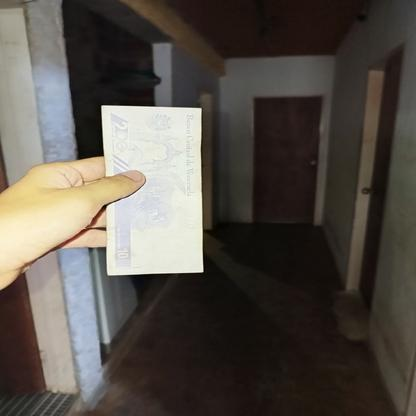ten-back-vef: (100, 106, 204, 276)
